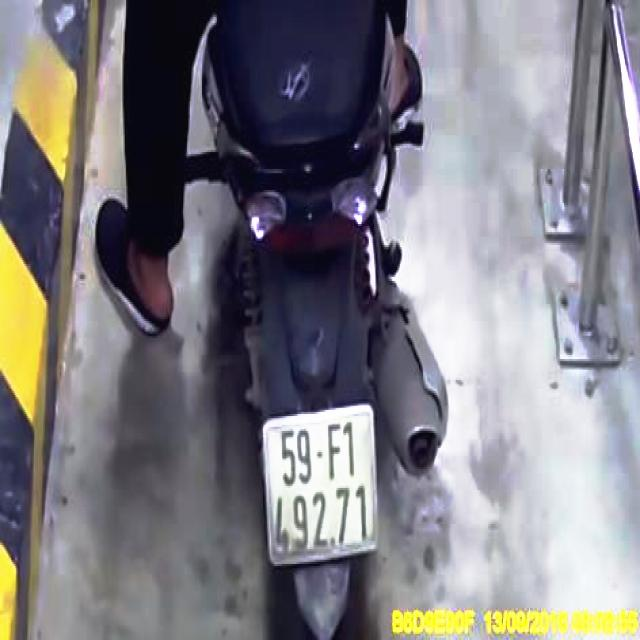license_plate: (263, 409, 379, 563)
